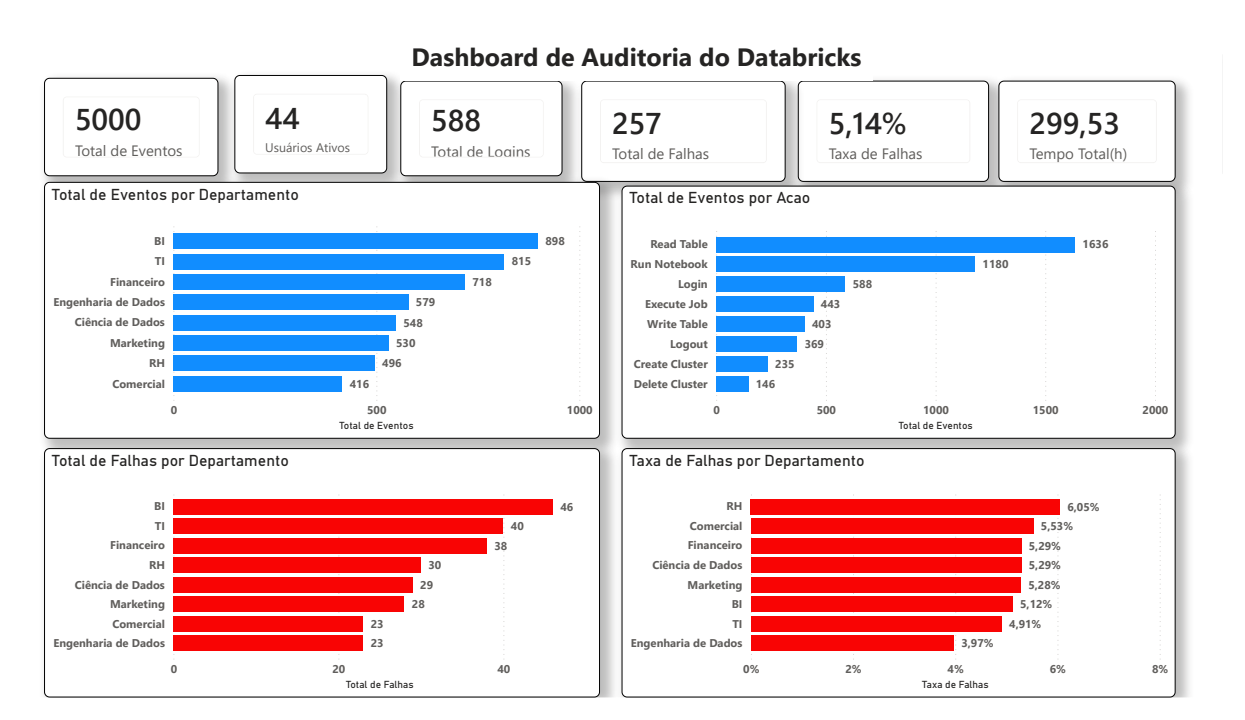

The page's visual inventory and layout, read from the dashboard file:
{"tool":"powerbi","page":{"name":"Visão Geral","canvas":[1280,720],"ordinal":0},"visuals":[{"type":"cardVisual","fields":{"Data":["FAuditLogs.Total de Eventos"]},"box":[23,59,185.8,105.1],"z":0},{"type":"cardVisual","fields":{"Data":["FAuditLogs.Usuários Ativos"]},"box":[226.1,56.2,162.7,105.1],"z":1000},{"type":"cardVisual","fields":{"Data":["FAuditLogs.Total de Logins"]},"box":[403.2,61.9,172.8,102.2],"z":2000},{"type":"cardVisual","fields":{"Data":["FAuditLogs.Percentual de Falhas"]},"box":[826.6,61.9,204.5,108],"z":3000},{"type":"cardVisual","fields":{"Data":["FAuditLogs.Totral de Falhas"]},"box":[596.2,61.9,217.4,108],"z":4000},{"type":"cardVisual","fields":{"Data":["FAuditLogs.Tempo Total(Horas)"]},"box":[1041.1,61.9,188.6,108],"z":5000},{"type":"barChart","fields":{"Y":["FAuditLogs.Total de Eventos"],"Category":["DimDepartment.Departamento"]},"box":[23,169.9,593.3,273.6],"z":6000},{"type":"barChart","fields":{"Y":["FAuditLogs.Total de Eventos"],"Category":["DimAction.Acao"]},"box":[639.4,174.2,590.4,269.3],"z":7000},{"type":"barChart","fields":{"Category":["DimDepartment.Departamento"],"Y":["FAuditLogs.Totral de Falhas"]},"box":[23,453.6,593.3,266.4],"z":8000},{"type":"barChart","fields":{"Category":["DimDepartment.Departamento"],"Y":["FAuditLogs.Percentual de Falhas"]},"box":[639.4,453.6,590.4,266.4],"z":9000},{"type":"textbox","box":[403.2,11.5,504,50.4],"z":10000}]}

Visuals, with their boxes in screenshot pixels (x1, y1, x2, y2), scaled from the page's 1280x720 canvas onto the 1245x720 screenshot:
cardVisual - FAuditLogs.Total de Eventos: (x1=22, y1=59, x2=203, y2=164)
cardVisual - FAuditLogs.Usuários Ativos: (x1=220, y1=56, x2=378, y2=161)
cardVisual - FAuditLogs.Total de Logins: (x1=392, y1=62, x2=560, y2=164)
cardVisual - FAuditLogs.Percentual de Falhas: (x1=804, y1=62, x2=1003, y2=170)
cardVisual - FAuditLogs.Totral de Falhas: (x1=580, y1=62, x2=791, y2=170)
cardVisual - FAuditLogs.Tempo Total(Horas): (x1=1013, y1=62, x2=1196, y2=170)
barChart - FAuditLogs.Total de Eventos x DimDepartment.Departamento: (x1=22, y1=170, x2=599, y2=444)
barChart - FAuditLogs.Total de Eventos x DimAction.Acao: (x1=622, y1=174, x2=1196, y2=444)
barChart - DimDepartment.Departamento x FAuditLogs.Totral de Falhas: (x1=22, y1=454, x2=599, y2=719)
barChart - DimDepartment.Departamento x FAuditLogs.Percentual de Falhas: (x1=622, y1=454, x2=1196, y2=719)
textbox: (x1=392, y1=12, x2=882, y2=62)
